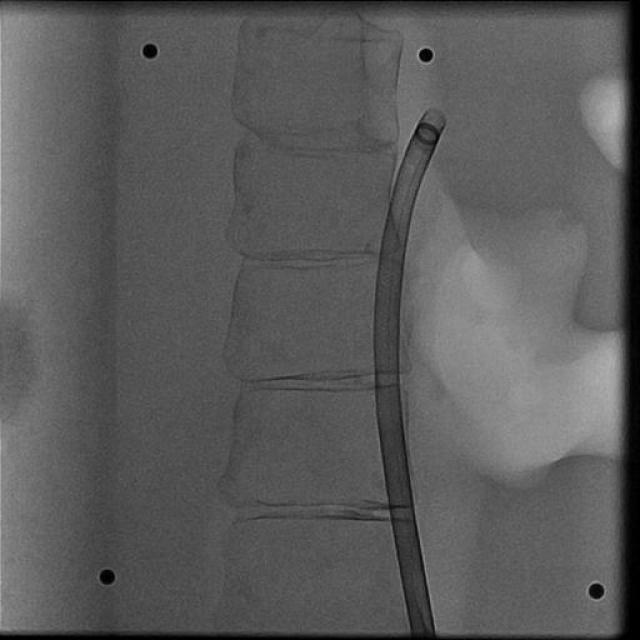bend: (376, 414, 404, 431)
entry: (411, 629, 438, 637)
marker: (413, 122, 442, 147)
tip: (424, 110, 446, 130)
